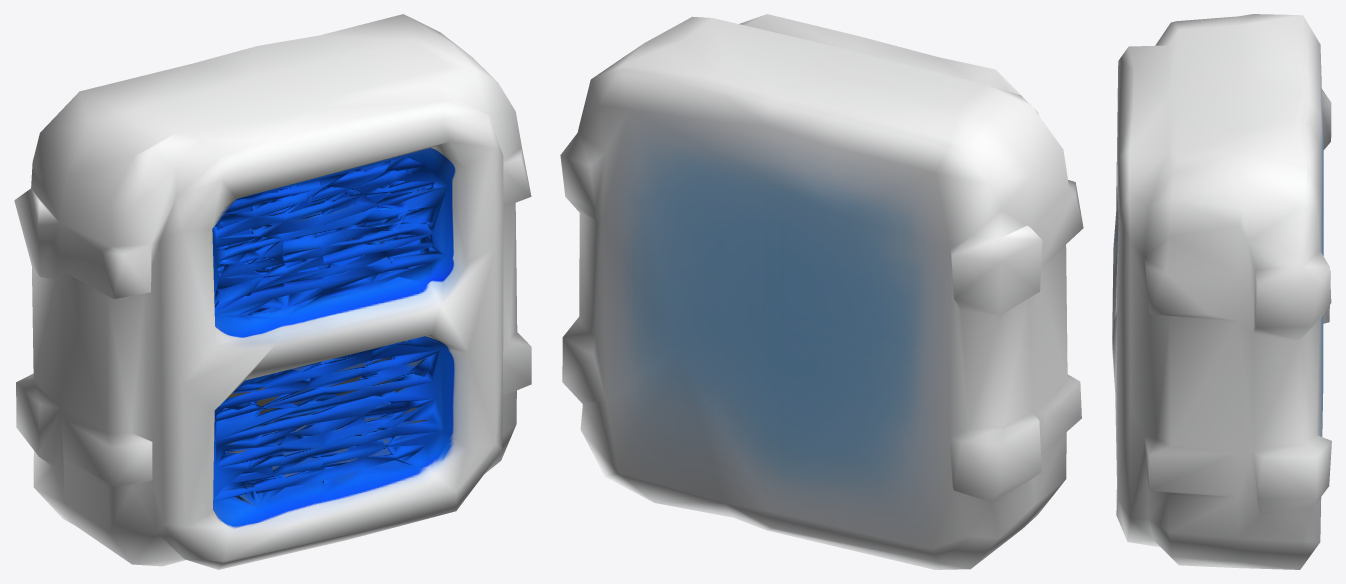
The model's file is klima_b.glb.
The picture shows the model from 3 angles, left to right: view 1: azimuth 30°, elevation 25°; view 2: azimuth 150°, elevation 25°; view 3: azimuth 270°, elevation 25°; orthographic projection. The views are drawn at different scales.
Parts seen in each view (by area): view 1: tripo_node_b4a07dd7-9095-4b3e-9e66-9fa78882932e; view 2: tripo_node_b4a07dd7-9095-4b3e-9e66-9fa78882932e; view 3: tripo_node_b4a07dd7-9095-4b3e-9e66-9fa78882932e.
Part boxes in pixels (x1,y1,x2,y2): tripo_node_b4a07dd7-9095-4b3e-9e66-9fa78882932e: [14, 14, 531, 569]; tripo_node_b4a07dd7-9095-4b3e-9e66-9fa78882932e: [560, 14, 1083, 569]; tripo_node_b4a07dd7-9095-4b3e-9e66-9fa78882932e: [1112, 14, 1331, 569].
Bounding box in the file's own units: 0.9829 × 0.9021 × 0.4372.
1 material, 1 textured.
